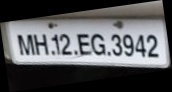character: (16, 34, 35, 56), (32, 33, 49, 56), (90, 33, 106, 55), (59, 32, 72, 56), (146, 34, 159, 58), (77, 33, 91, 55), (122, 33, 134, 57), (134, 34, 146, 58), (111, 33, 122, 56), (50, 33, 60, 55)
